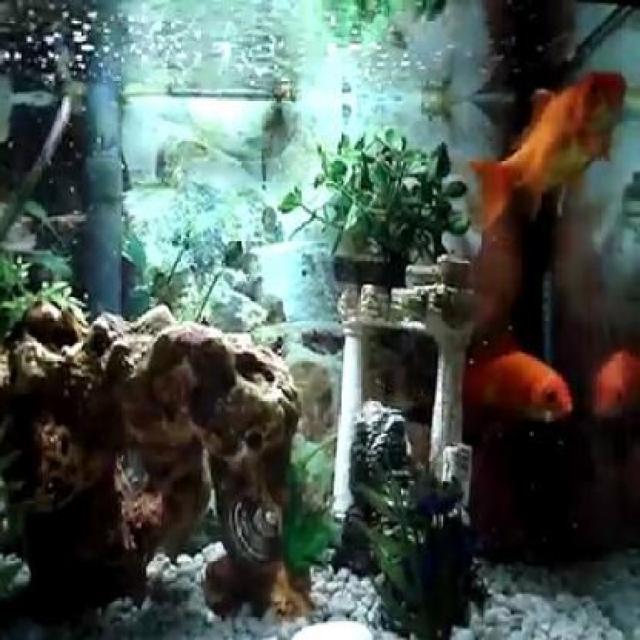GoldFish: (474, 62, 628, 233), (460, 334, 574, 424)
